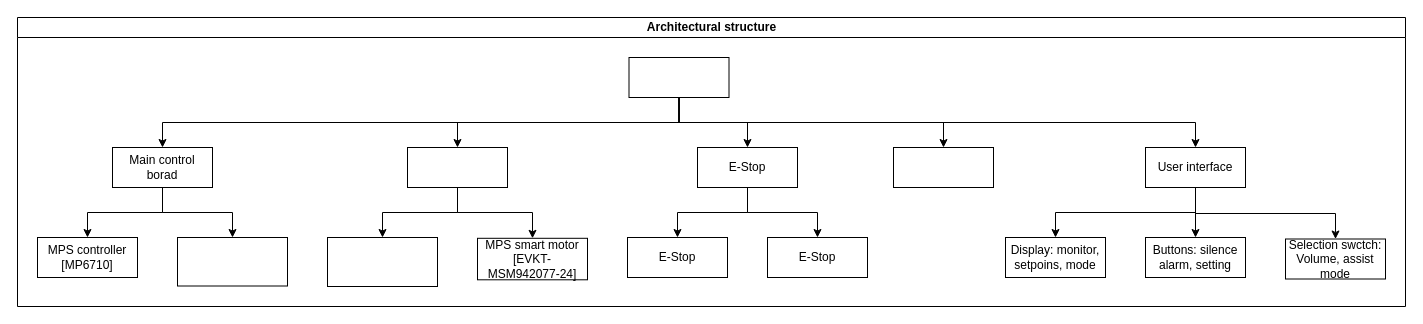
This 1423x324 diagram has some shape labels left out. Here are the shapes that lost their labels. From the top down, the centre of each, then its label:
At (678,77): "Hradware of MPS ventilatore".
At (457,167): "BLDC Motor control".
At (943,167): "Power switch".
At (232,261): "MPS DCDC Power modules [e.g.MPM54304]".
At (382,261): "MPS motor driver module [MMP742077-24-C]".
